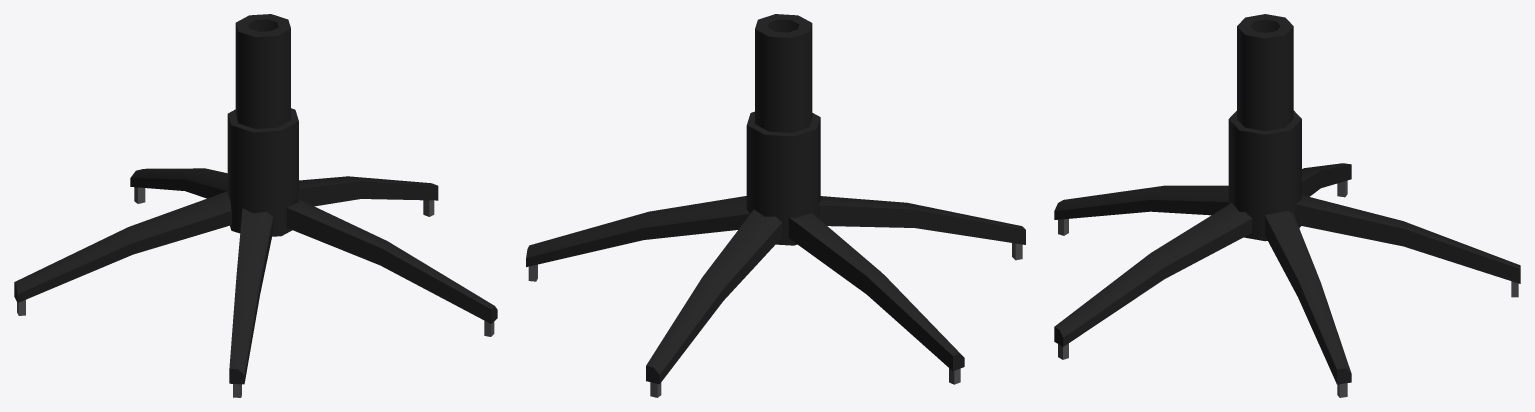
The model's file is Gaming_Chair_Base_Bottom_1.obj.
3 views of the same model, side by side, from view 1: azimuth 30°, elevation 25°; view 2: azimuth 150°, elevation 25°; view 3: azimuth 270°, elevation 25° (orthographic). The views are drawn at different scales.
Visible parts, largest first — view 1: Gaming_Chair_Base_Bottom_1; view 2: Gaming_Chair_Base_Bottom_1; view 3: Gaming_Chair_Base_Bottom_1.
Boxes of the visible parts, x1,y1,x2,y2 form: Gaming_Chair_Base_Bottom_1: (14,14,497,397); Gaming_Chair_Base_Bottom_1: (526,14,1025,397); Gaming_Chair_Base_Bottom_1: (1054,14,1520,397).
Bounding box in the file's own units: 0.7056 × 0.4276 × 0.671.
